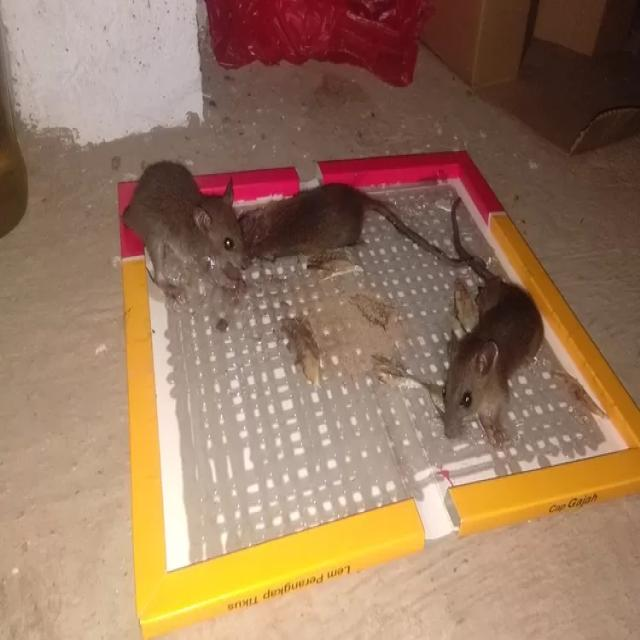rat: (434, 266, 544, 460), (121, 156, 252, 300), (238, 178, 374, 271)
